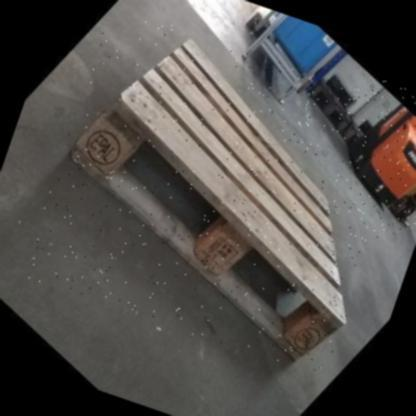pallet: (60, 29, 344, 359)
